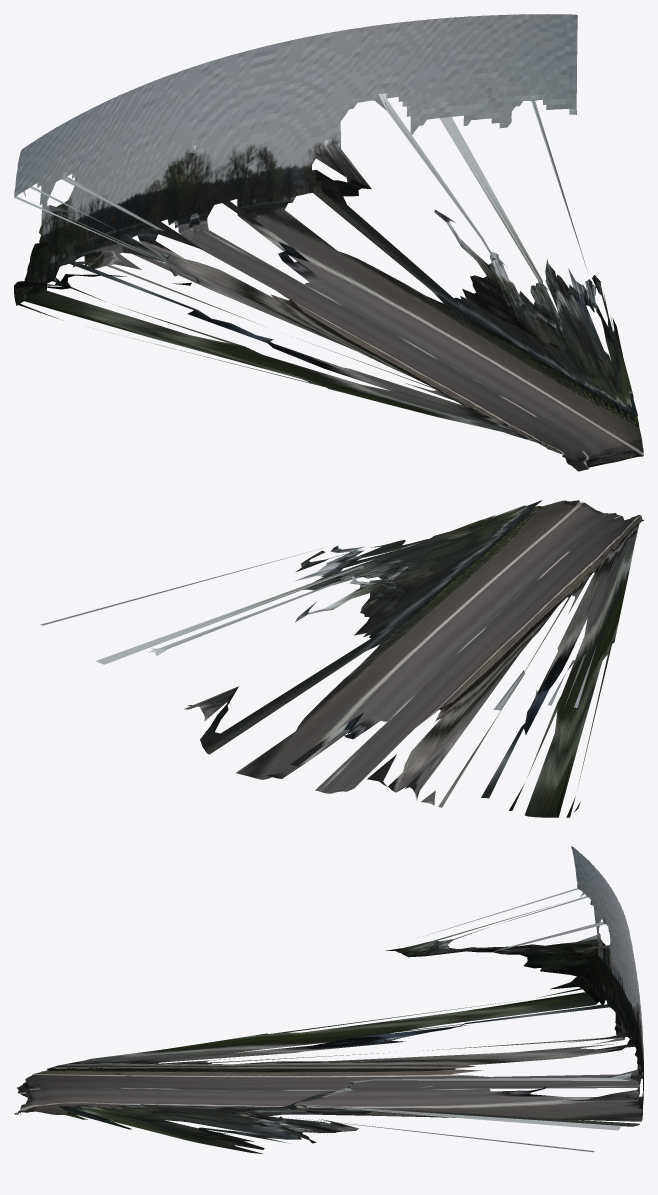
The picture shows the model from 3 angles, top to bottom: view 1: azimuth 30°, elevation 25°; view 2: azimuth 150°, elevation 25°; view 3: azimuth 270°, elevation 25°; orthographic projection. The views are drawn at different scales.
Parts seen in each view (by area): view 1: defaultobject; view 2: defaultobject; view 3: defaultobject.
Part boxes in pixels (bbox=[...]): defaultobject: bbox=[14, 14, 643, 471]; defaultobject: bbox=[40, 500, 643, 817]; defaultobject: bbox=[14, 846, 643, 1153].
Bounding box in the file's own units: 41.02 × 12.09 × 44.69.
1 material, 1 textured.
